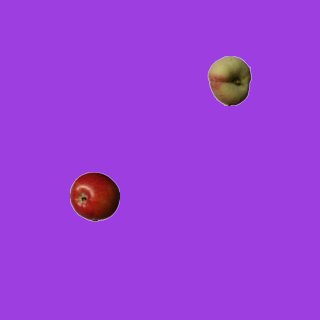Apple Braeburn: (69, 171, 119, 221)
Peach Flat: (204, 55, 254, 105)
